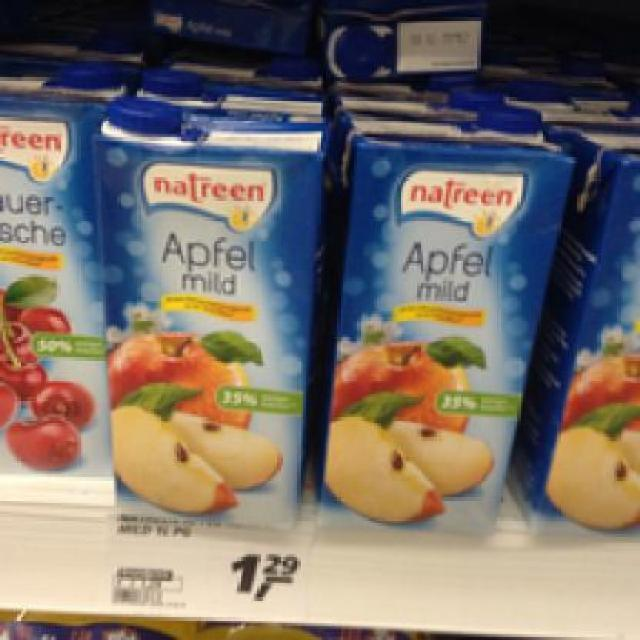Juice: (312, 102, 574, 535), (88, 92, 326, 534)
